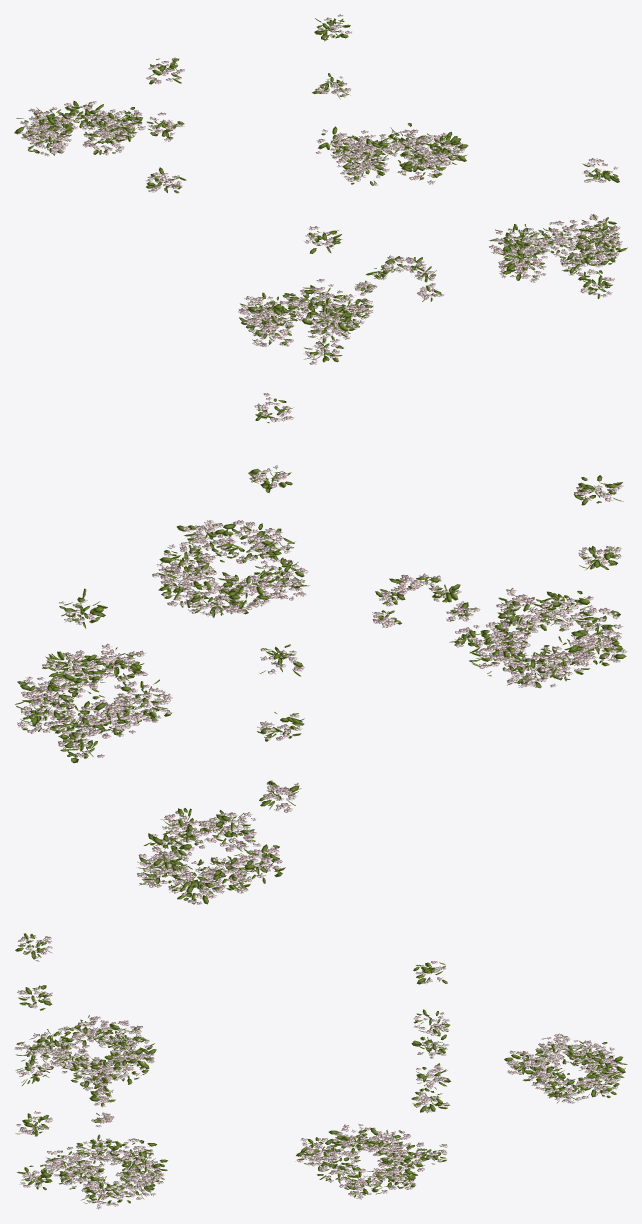
The model's file is R3_Blossoms.fbx.
The picture shows the model from 3 angles, top to bottom: view 1: azimuth 30°, elevation 25°; view 2: azimuth 150°, elevation 25°; view 3: azimuth 270°, elevation 25°; orthographic projection. The views are drawn at different scales.
Visible parts, largest first — view 1: R3_Blossoms; view 2: R3_Blossoms; view 3: R3_Blossoms.
Part boxes in pixels (x1=…): R3_Blossoms: x1=14, y1=14, x2=627, y2=364; R3_Blossoms: x1=15, y1=393, x2=627, y2=904; R3_Blossoms: x1=14, y1=933, x2=627, y2=1209.
Bounding box in the file's own units: 35.02 × 12.08 × 52.58.
